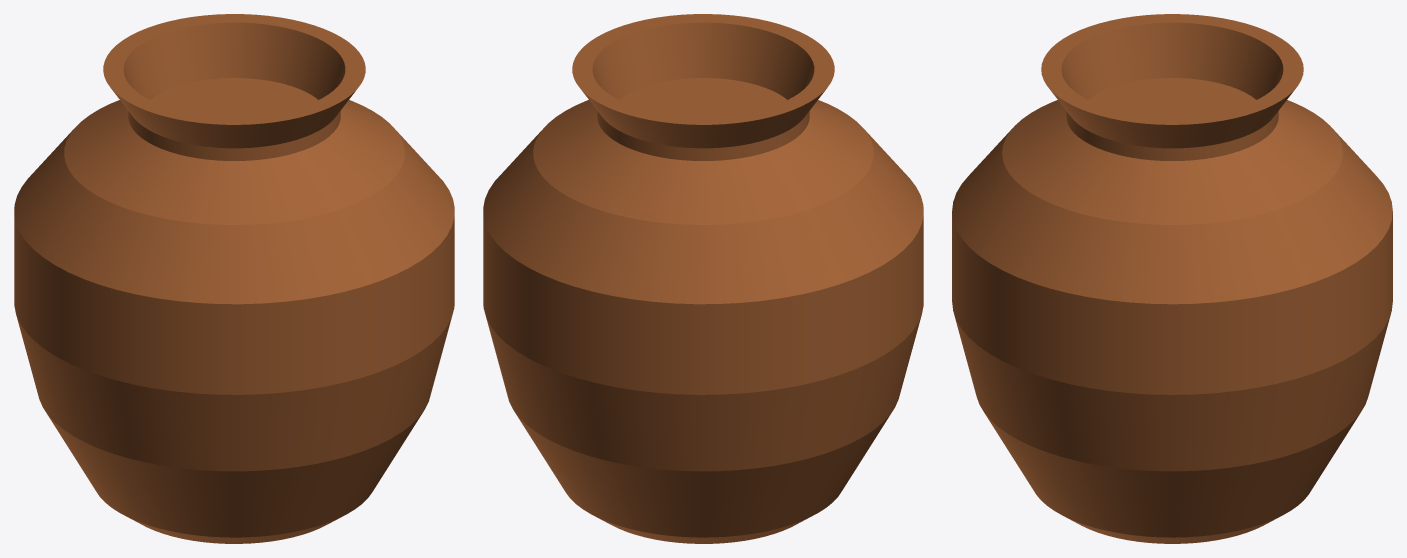
The picture shows the model from 3 angles, left to right: view 1: azimuth 30°, elevation 25°; view 2: azimuth 150°, elevation 25°; view 3: azimuth 270°, elevation 25°; orthographic projection.
Visible parts, largest first — view 1: jar; view 2: jar; view 3: jar.
Part boxes in pixels (<box>): jar: <box>14,14,454,543</box>; jar: <box>483,14,923,543</box>; jar: <box>952,14,1392,543</box>.
Bounding box in the file's own units: 0.282 × 0.3 × 0.282.
